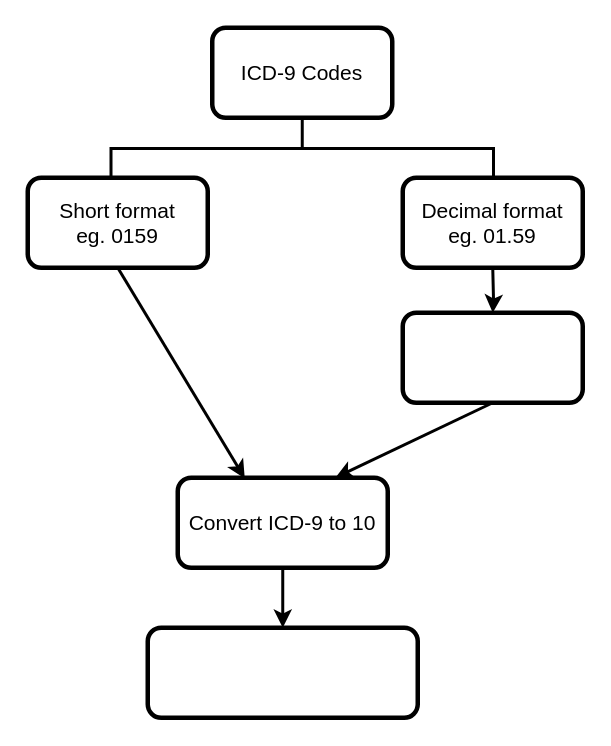
The diagram is 611 pixels wide and 746 high, and some of its shapes have lost their labels. The shapes that lost their labels are listed below. From the top down, each one's box as (x1, y1, x2, y2) in pixels, then its label:
(400, 310, 584, 404): Convert decimal to short
(145, 625, 419, 719): Grab all children of ICD-10
